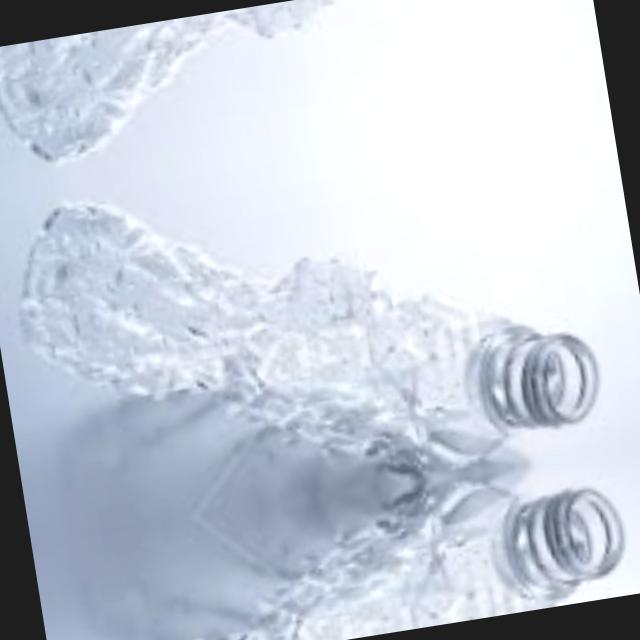Plastic: (0, 105, 623, 539), (31, 451, 640, 640), (0, 0, 568, 193)
